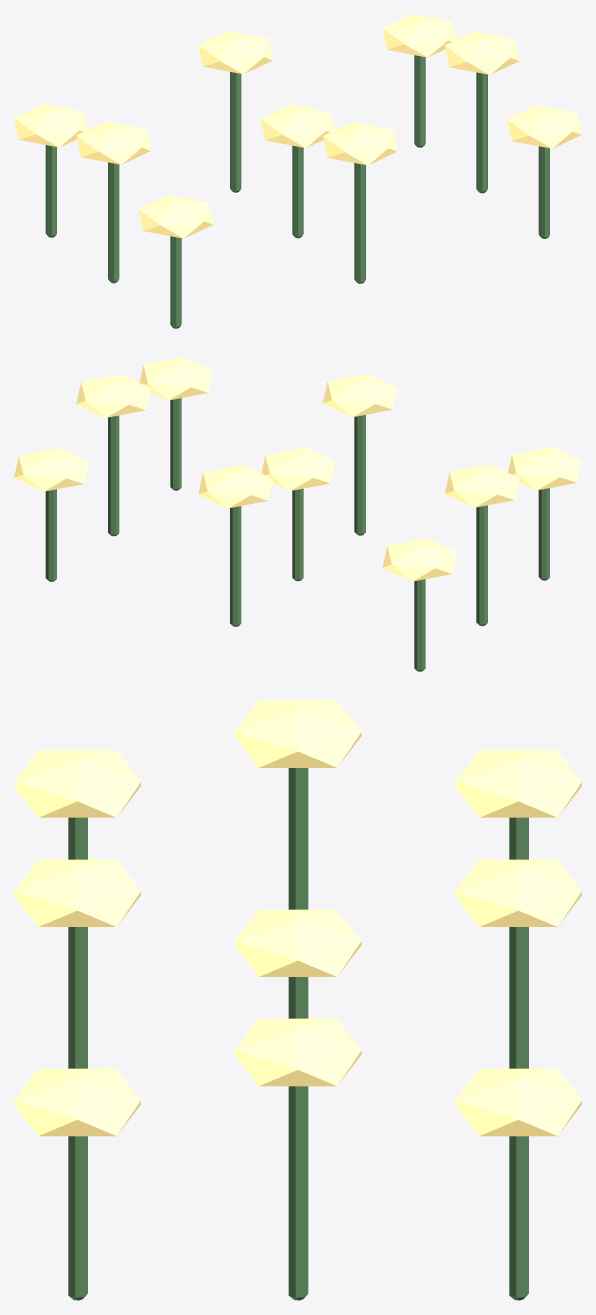
File: harthmere_temple_peacebloom.glb
The picture shows the model from 3 angles, top to bottom: view 1: azimuth 30°, elevation 25°; view 2: azimuth 150°, elevation 25°; view 3: azimuth 270°, elevation 25°; orthographic projection. The views are drawn at different scales.
Bounding box in the file's own units: 1.93 × 0.6485 × 1.24.
